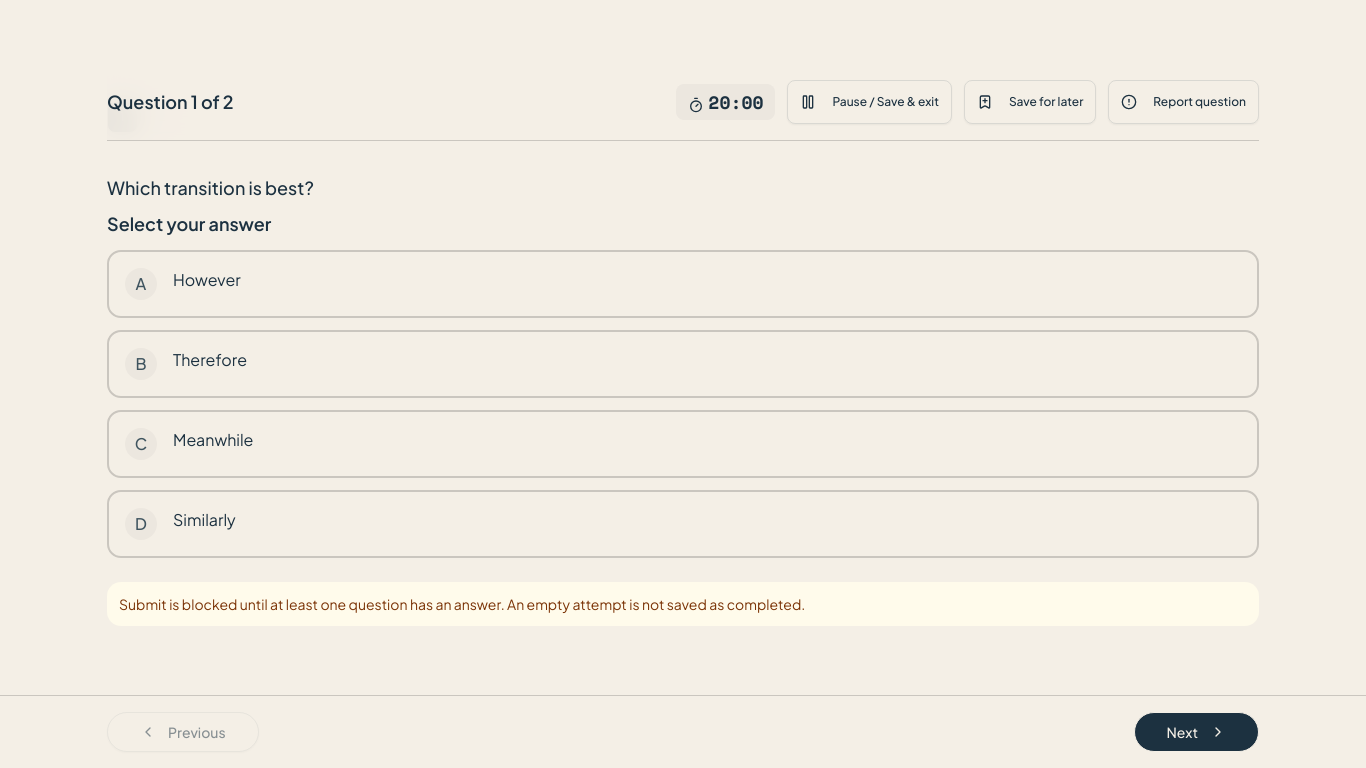
student attempt UI › a 409 while saving shows the paused screen instead of failing silently
The image size is (1366, 768).
Click the button "A However" at coordinates (141, 284), box [107,250,1259,318]
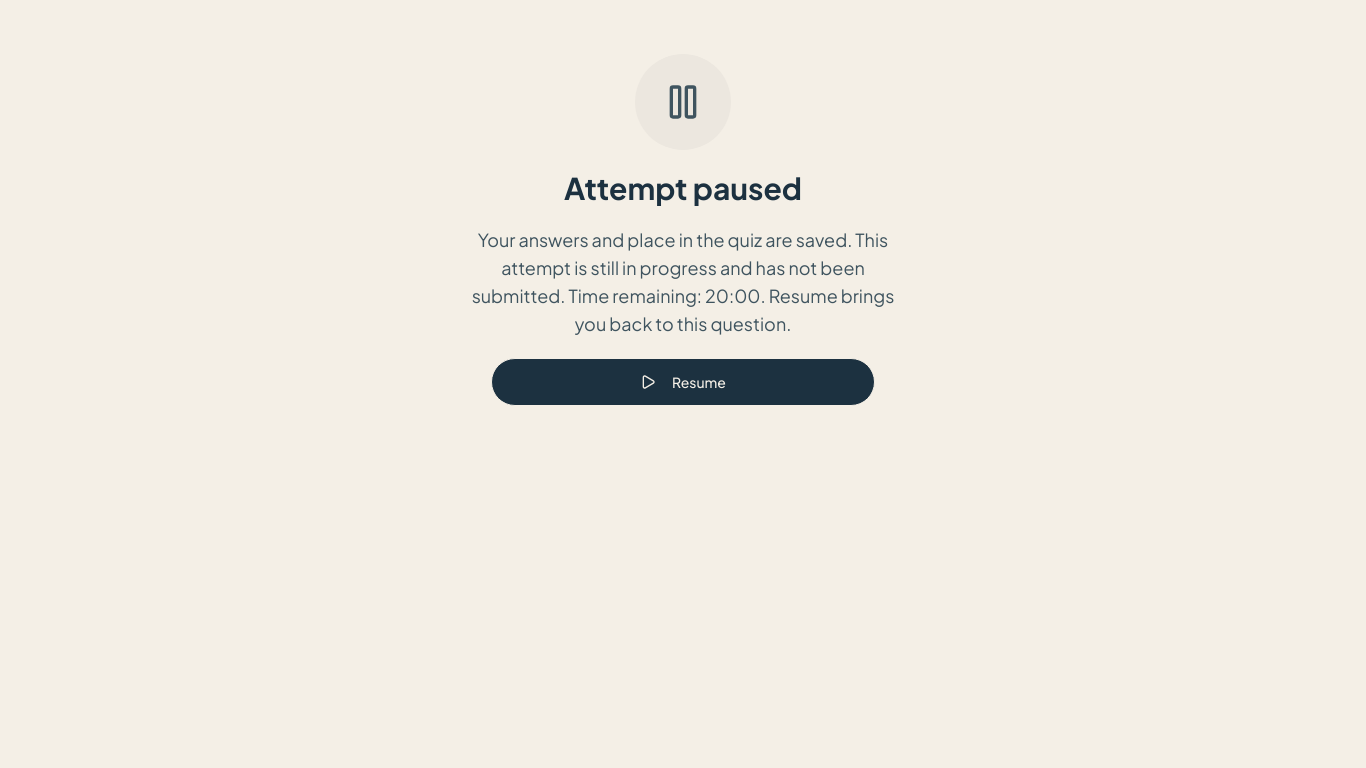
Check: the element with test id "quiz-paused" is shown, box [472,54,894,406]
